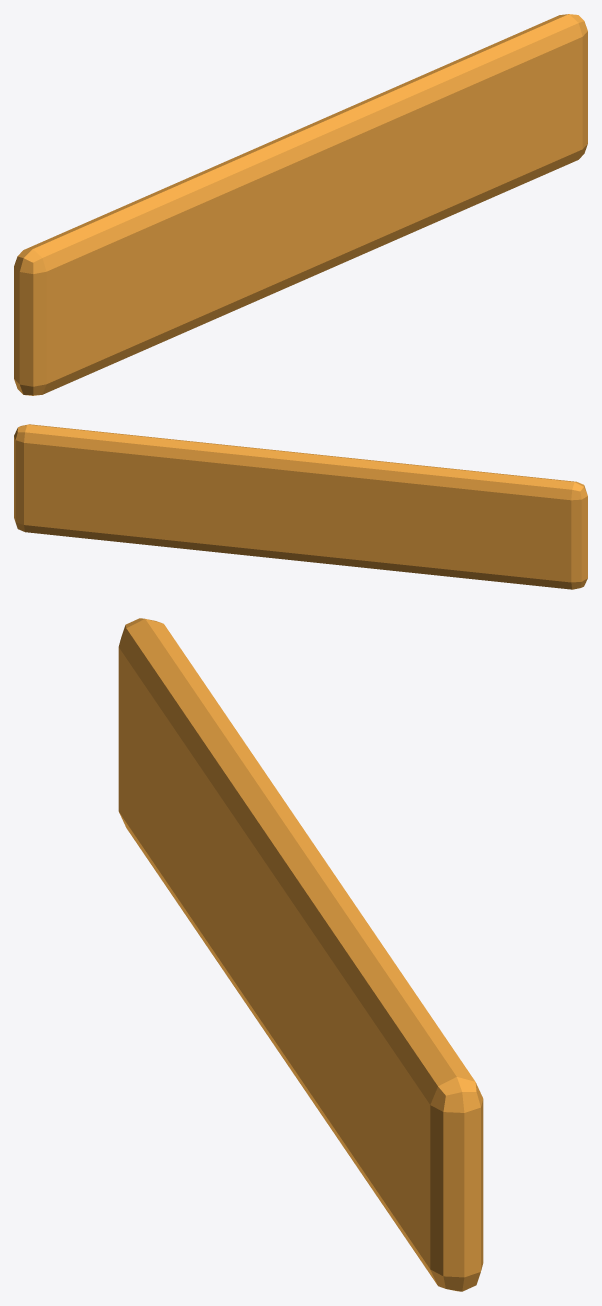
The model's file is Repair_TapeStrip_A.glb.
The picture shows the model from 3 angles, top to bottom: view 1: azimuth 30°, elevation 25°; view 2: azimuth 150°, elevation 25°; view 3: azimuth 270°, elevation 25°; orthographic projection. The views are drawn at different scales.
Visible parts, largest first — view 1: Repair_TapeStrip_A; view 2: Repair_TapeStrip_A; view 3: Repair_TapeStrip_A.
Boxes of the visible parts, x1,y1,x2,y2 form: Repair_TapeStrip_A: (14, 14, 587, 395); Repair_TapeStrip_A: (14, 424, 587, 589); Repair_TapeStrip_A: (118, 618, 483, 1291).
Bounding box in the file's own units: 0.5766 × 0.12 × 0.185.
